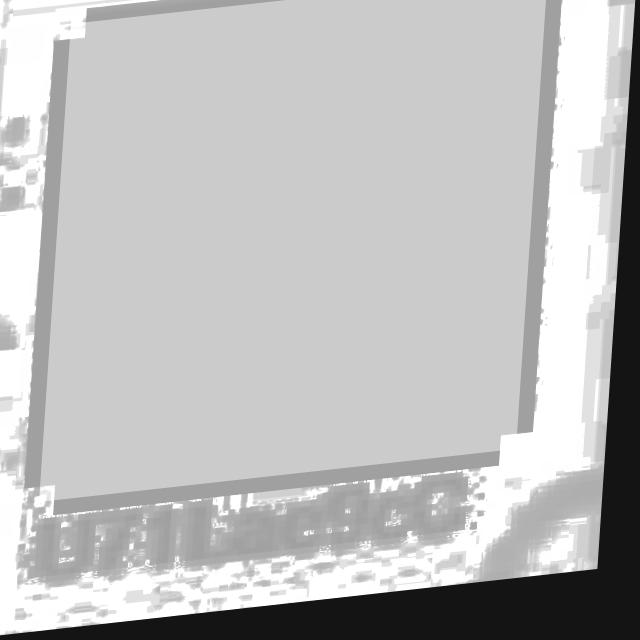qr_code: (46, 0, 548, 504)
